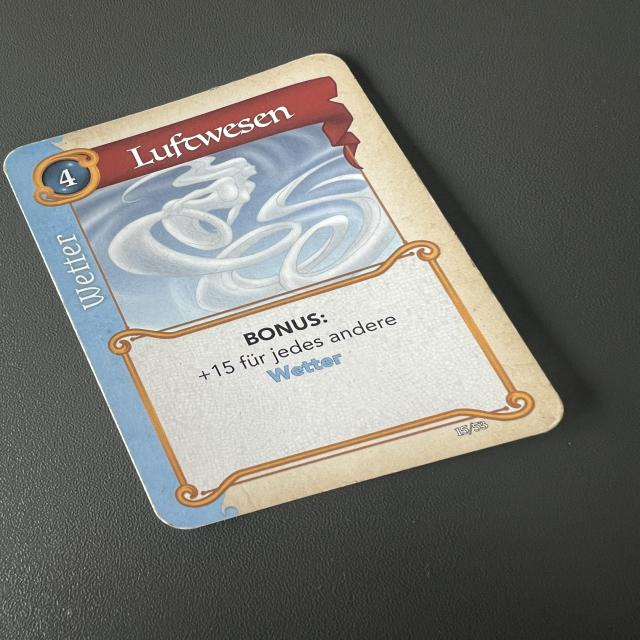Air Elemental: (4, 46, 577, 539)
